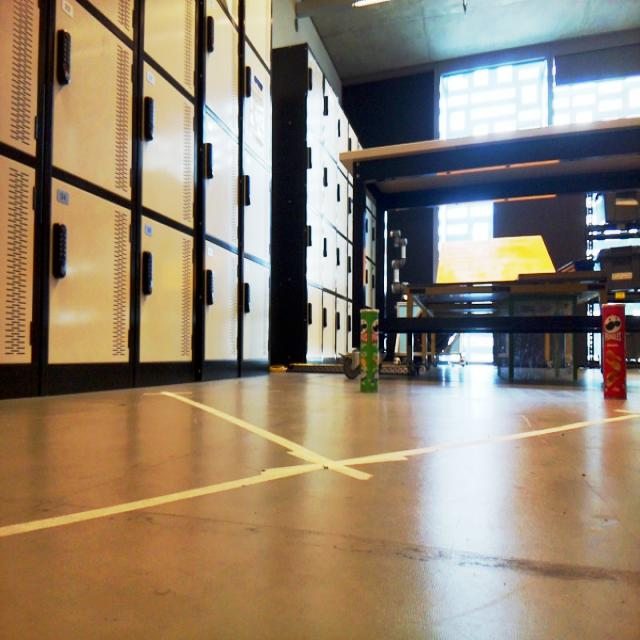greenpringles: (344, 299, 388, 401)
redpringles: (591, 299, 634, 413)
